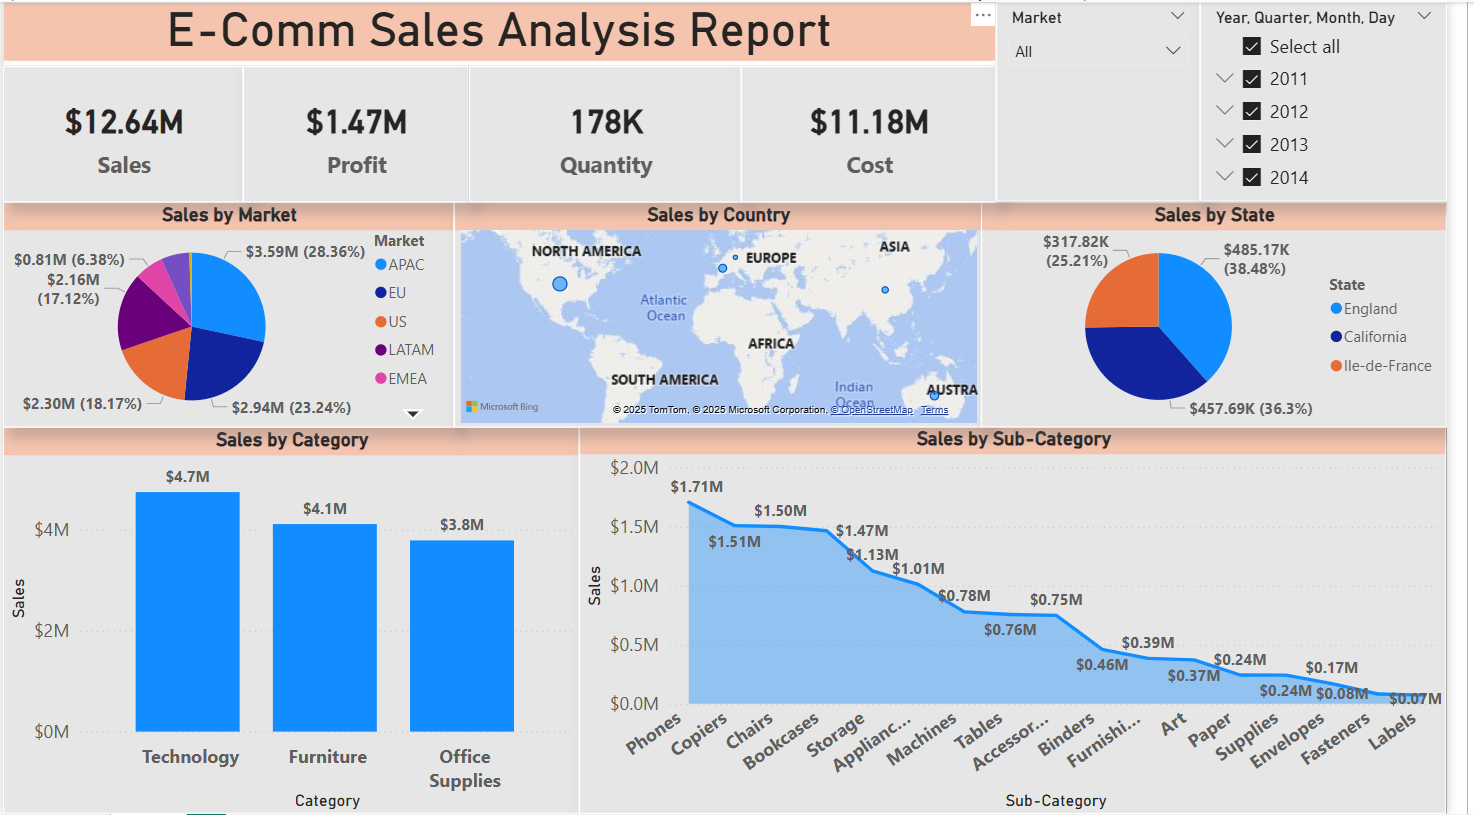

The dashboard page shown, as its layout file describes it:
{"tool":"powerbi","page":{"name":"Page 1","canvas":[1280,720],"ordinal":0},"visuals":[{"type":"columnChart","fields":{"Category":["Orders.Category"],"Y":["Sum(Orders.Sales)"]},"box":[0,377,510.9,343.1],"z":0},{"type":"areaChart","fields":{"Y":["Sum(Orders.Sales)"],"Category":["Orders.Sub-Category"]},"box":[510.7,376.3,769.3,344.4],"z":1000},{"type":"pieChart","fields":{"Category":["Orders.Market"],"Y":["Sum(Orders.Sales)"]},"box":[0,177.2,399.6,199.8],"z":2000},{"type":"map","fields":{"Category":["Orders.Country"],"Size":["Sum(Orders.Sales)"]},"box":[399.6,177.2,467.5,199.8],"z":3000},{"type":"pieChart","fields":{"Y":["Sum(Orders.Sales)"],"Category":["Orders.State"]},"box":[867.2,177.2,412.8,199.8],"z":4000},{"type":"card","fields":{"Values":["Sum(Orders.Sales)"]},"box":[0,56.6,213,120.6],"z":5000},{"type":"card","fields":{"Values":["Sum(Orders.Profit)"]},"box":[213,56.6,199.8,120.6],"z":6000},{"type":"card","fields":{"Values":["Sum(Orders.Quantity)"]},"box":[412.8,56.6,241.3,120.6],"z":7000},{"type":"card","fields":{"Values":["Sum(Orders.Cost)"]},"box":[654.1,56.6,226.2,120.6],"z":8000},{"type":"slicer","fields":{"Values":["Orders.Market"]},"box":[880.4,0,181,177.2],"z":9000},{"type":"slicer","fields":{"Values":["Orders.Order Date.Variation.Date Hierarchy.Year","Orders.Order Date.Variation.Date Hierarchy.Quarter","Orders.Order Date.Variation.Date Hierarchy.Month","Orders.Order Date.Variation.Date Hierarchy.Day"]},"box":[1061.3,0,218.7,177.2],"z":10000},{"type":"textbox","title":"E-Comm Sales Analysis Report","box":[0,0,880.4,56.6],"z":12000}]}

Visuals, with their boxes in screenshot pixels (x1, y1, x2, y2), scaled from the page's 1280x720 canvas onto the 1474x815 screenshot:
columnChart - Orders.Category x Sum(Orders.Sales): <bbox>0, 427, 588, 814</bbox>
areaChart - Sum(Orders.Sales) x Orders.Sub-Category: <bbox>588, 426, 1473, 814</bbox>
pieChart - Orders.Market x Sum(Orders.Sales): <bbox>0, 201, 460, 427</bbox>
map - Orders.Country x Sum(Orders.Sales): <bbox>460, 201, 999, 427</bbox>
pieChart - Sum(Orders.Sales) x Orders.State: <bbox>999, 201, 1473, 427</bbox>
card - Sum(Orders.Sales): <bbox>0, 64, 245, 201</bbox>
card - Sum(Orders.Profit): <bbox>245, 64, 475, 201</bbox>
card - Sum(Orders.Quantity): <bbox>475, 64, 753, 201</bbox>
card - Sum(Orders.Cost): <bbox>753, 64, 1014, 201</bbox>
slicer - Orders.Market: <bbox>1014, 0, 1222, 201</bbox>
slicer - Orders.Order Date.Variation.Date Hierarchy.Year x Orders.Order Date.Variation.Date Hierarchy.Quarter: <bbox>1222, 0, 1473, 201</bbox>
"E-Comm Sales Analysis Report" textbox: <bbox>0, 0, 1014, 64</bbox>
